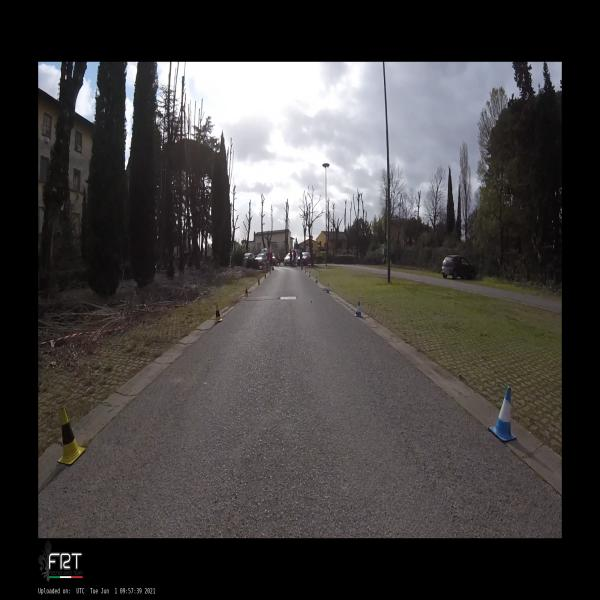blue_cone: (488, 387, 517, 441), (354, 300, 362, 317), (325, 283, 330, 293), (315, 276, 318, 283), (308, 272, 311, 277)
yellow_cone: (57, 406, 86, 464), (214, 304, 222, 322), (244, 287, 249, 297), (258, 279, 260, 285), (264, 274, 266, 278)
